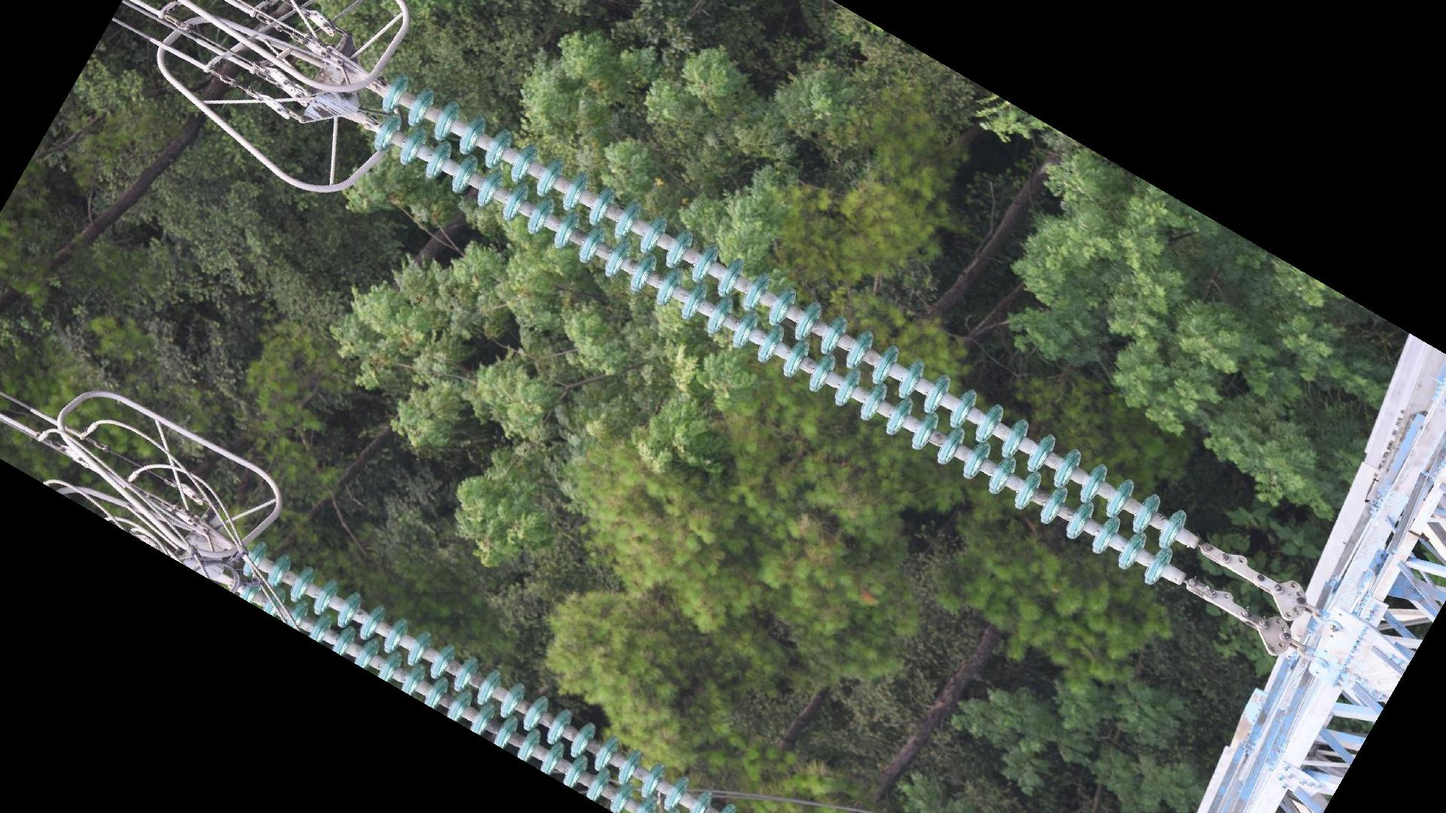insulator: (365, 69, 1197, 596), (230, 537, 745, 813)
